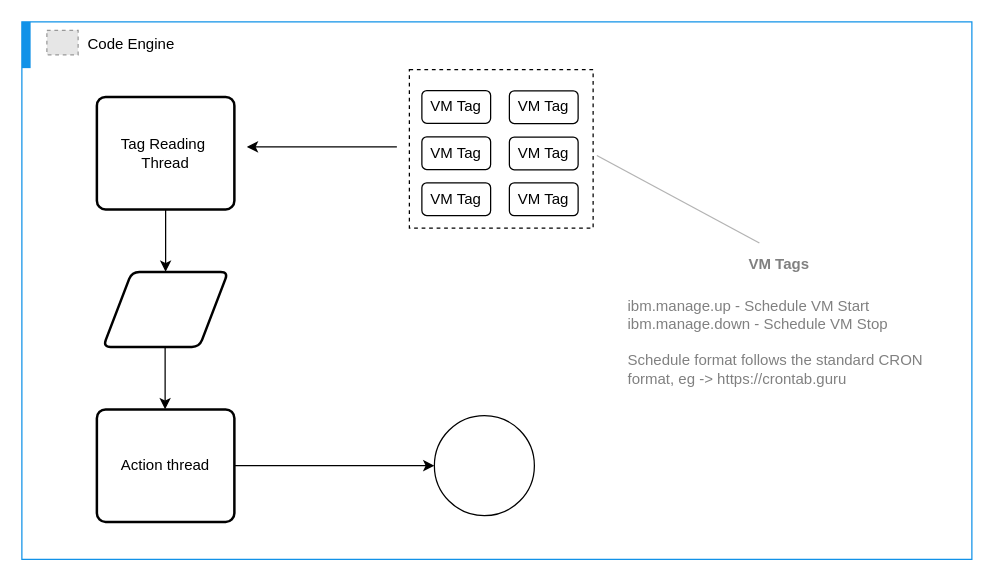
This 994x581 diagram has some shape labels left out. Grey dashed boxes stand in for pictures. The shapes that lost their labels are listed below. From the top down, each one's centre as x and y in pixels, then its label:
the point at 165,309: Action List
the point at 483,465: Stop/Start VM
